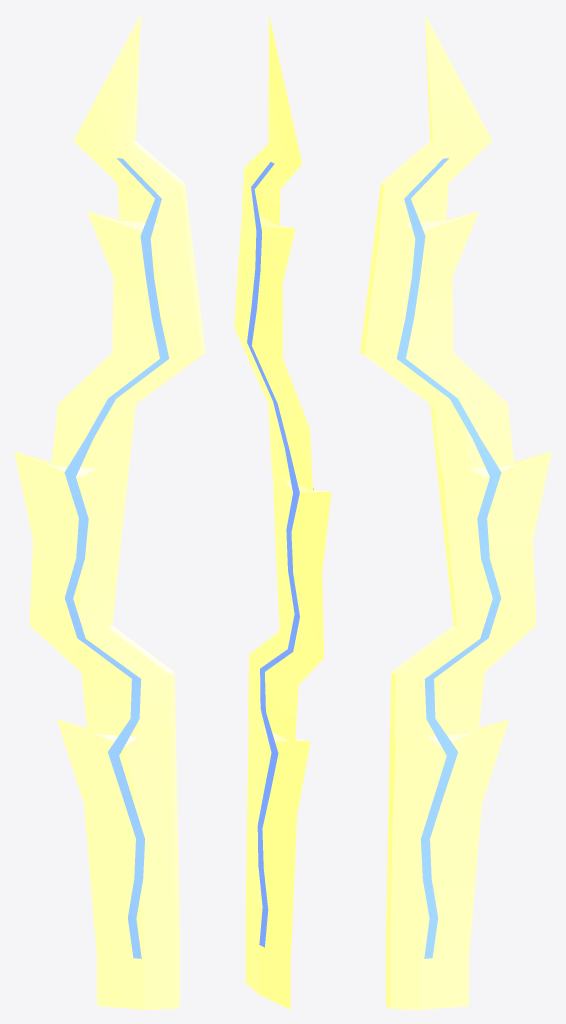
File: blade_lightning.fbx
The picture shows the model from 3 angles, left to right: view 1: azimuth 90°, elevation 25°; view 2: azimuth 210°, elevation 25°; view 3: azimuth 270°, elevation 25°; orthographic projection.
Visible parts, largest first — view 1: blade_lightning_blade, blade_lightning_glow; view 2: blade_lightning_blade, blade_lightning_glow; view 3: blade_lightning_blade, blade_lightning_glow.
Part boxes in pixels (<box>): blade_lightning_blade: <box>14,14,205,1009</box>; blade_lightning_glow: <box>64,158,169,958</box>; blade_lightning_blade: <box>234,15,331,1009</box>; blade_lightning_glow: <box>247,162,313,947</box>; blade_lightning_blade: <box>360,14,551,1009</box>; blade_lightning_glow: <box>396,158,501,958</box>.
Bounding box in the file's own units: 8.59 × 422 × 73.87.
